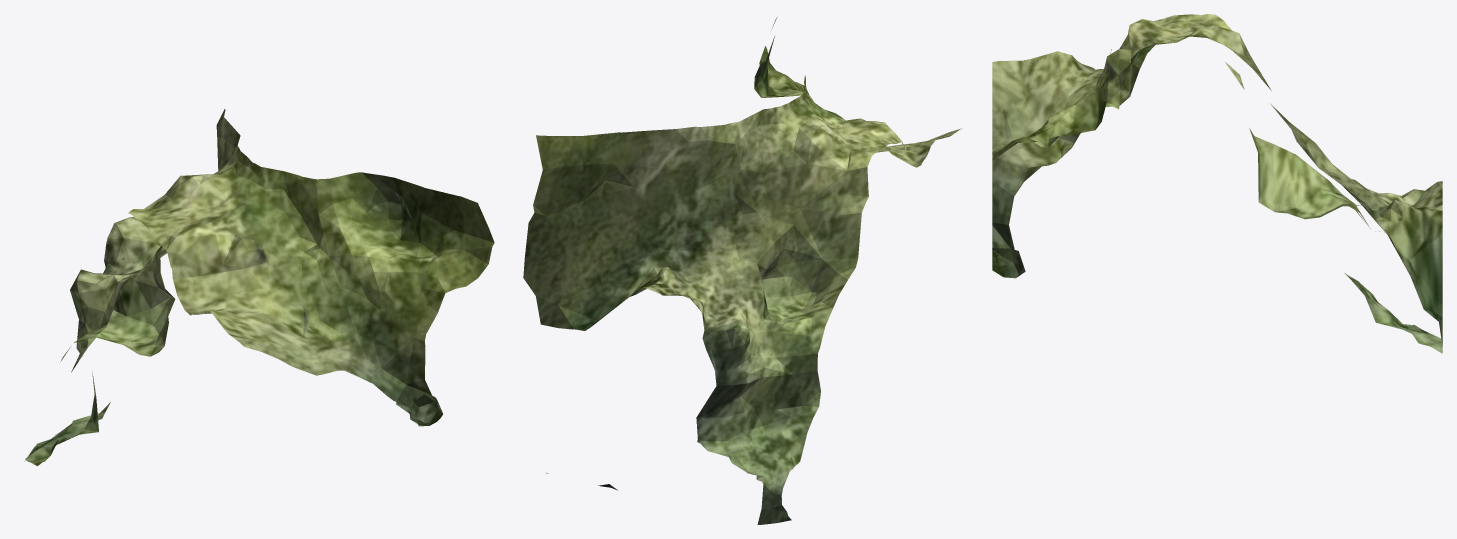
3 views of the same model, side by side, from view 1: azimuth 30°, elevation 25°; view 2: azimuth 150°, elevation 25°; view 3: azimuth 270°, elevation 25° (orthographic). The views are drawn at different scales.
Bounding box in the file's own units: 4.7 × 5.9 × 5.9.
3 materials, 3 textured.
